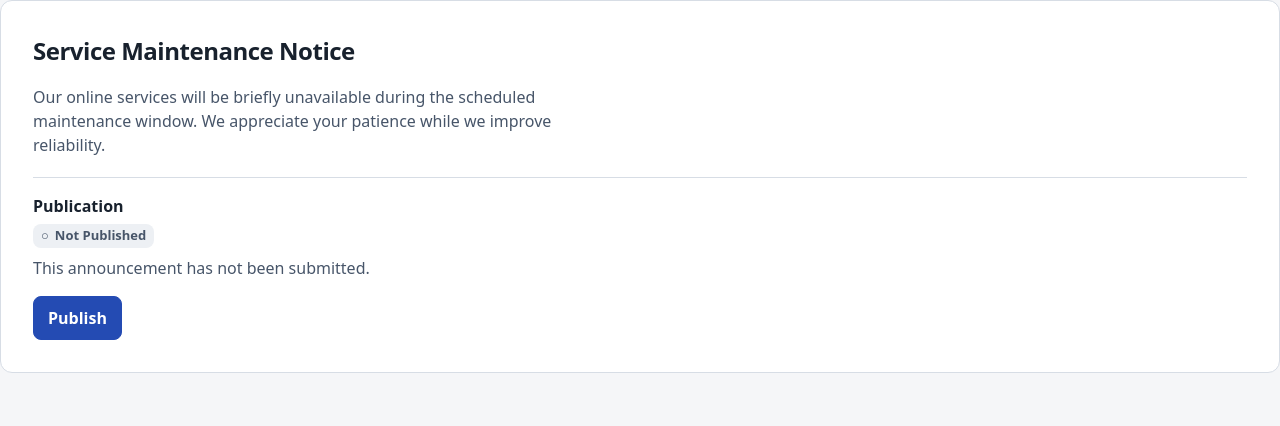
Test: backs off after a temporary status failure while another announcement publishes independently
The width and height of the screenshot is (1280, 426).
Later steps or results of the test are not shown.
Click the button "Publish": (77, 318) [33,296,122,340]
Wait 16320 ms
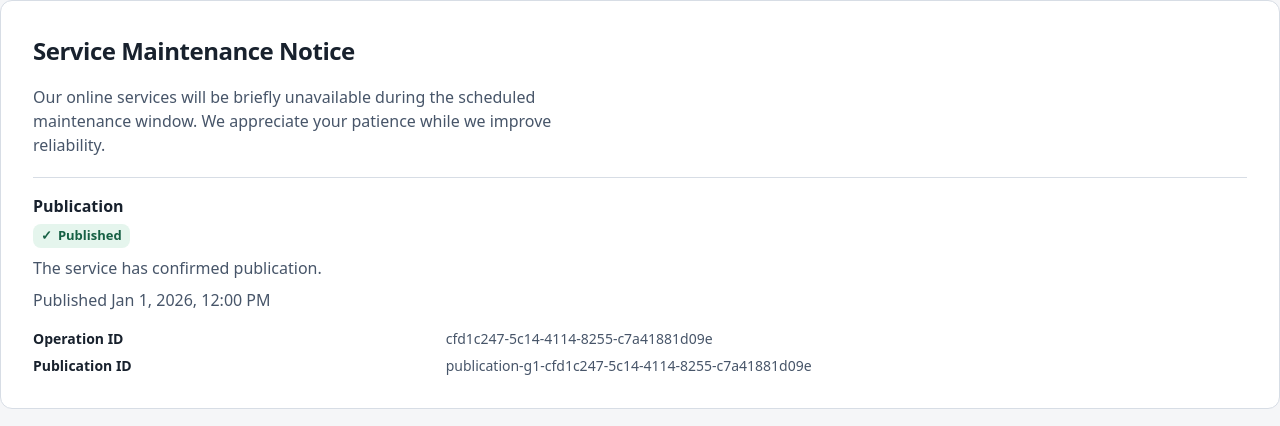
Expected: the text "Unconfirmed" is shown, [33,224,130,248]
Result: the message shows "The service has confirmed publication." at [33,256,322,278]
